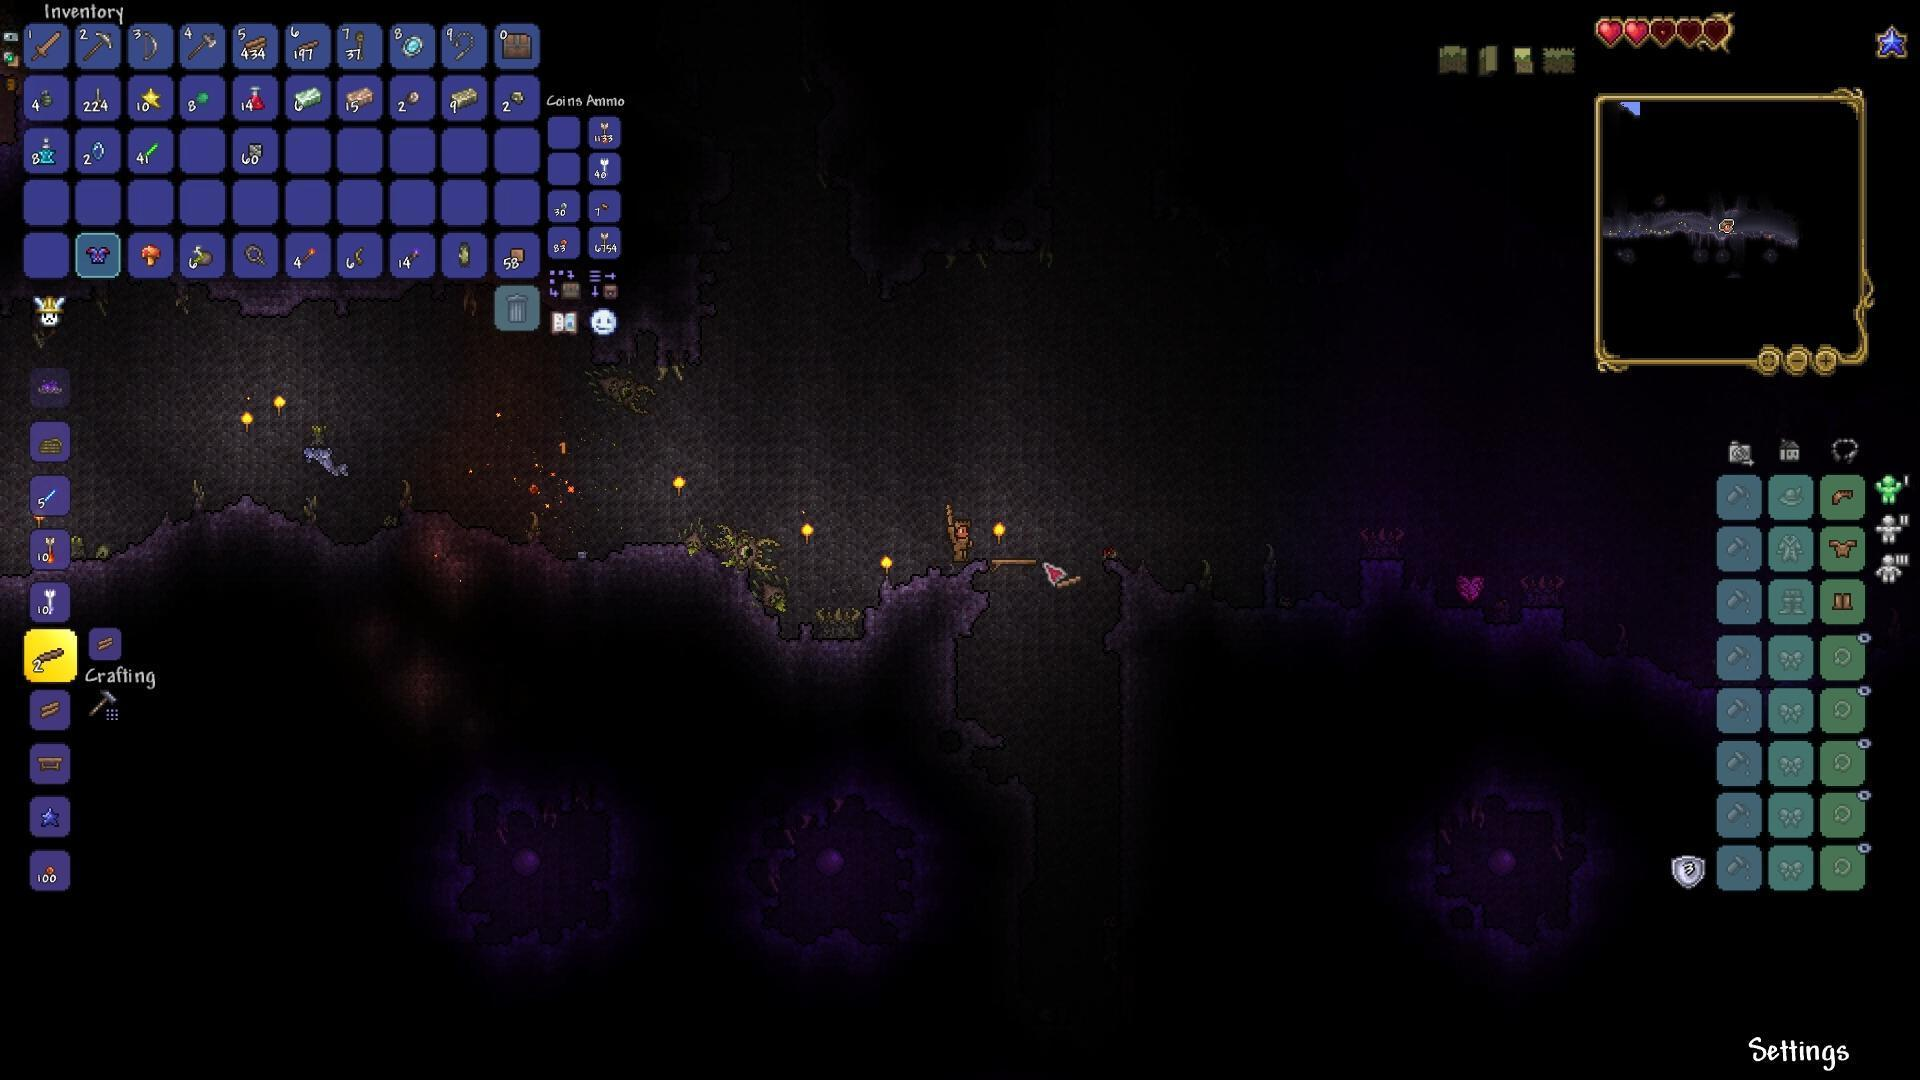chest: (500, 30, 535, 62)
crimera: (588, 369, 653, 410)
glowstick: (137, 140, 161, 160)
potion: (244, 84, 264, 109)
recallP: (36, 138, 61, 167)
star: (138, 86, 162, 109)
